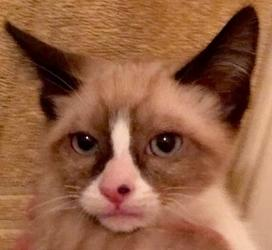ragdoll: (1, 2, 266, 242)
